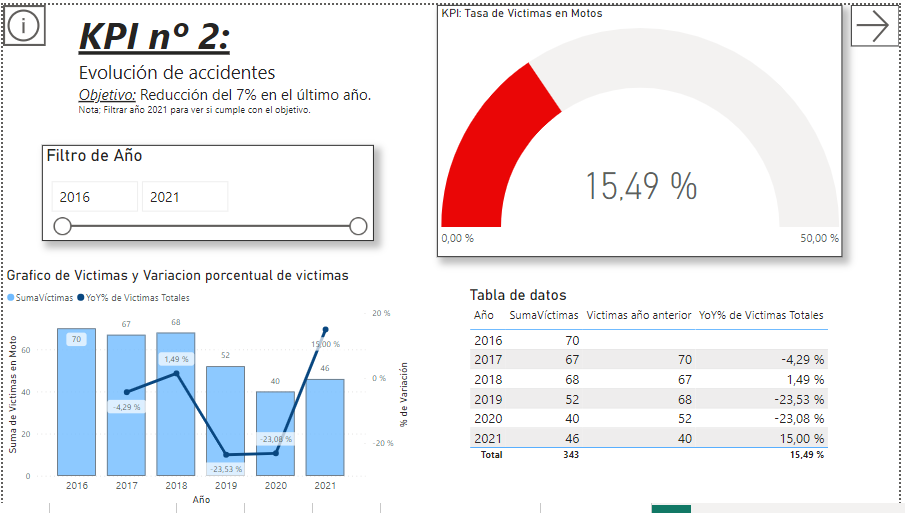

This screenshot's page, from the dashboard's own definition file:
{"tool":"powerbi","page":{"name":"KPI 2","canvas":[1280,720],"ordinal":3},"visuals":[{"type":"lineClusteredColumnComboChart","title":"Grafico de Victimas y Variacion  porcentual de victimas","fields":{"Category":["Accidentes y victimas.PARTICIPANTES","Calendario.Fechas.Variación.Jerarquía de fechas.Año"],"Y":["Accidentes y victimas.SumaVíctimas"],"Y2":["Accidentes y victimas.YoY% de Victimas Totales"]},"box":[0,374.4,584.6,345.6],"z":0},{"type":"slicer","title":"Filtro de Año","fields":{"Values":["Calendario.Fechas.Variación.Jerarquía de fechas.Año"]},"box":[55.7,200,474.3,137.1],"z":1000},{"type":"gauge","title":"KPI: Tasa de Victimas en Motos","fields":{"Y":["Accidentes y victimas.YoY% de Victimas Totales"],"TargetValue":["Accidentes y victimas.Objetivo KPI 2"]},"box":[620,0,578.6,360],"z":2000},{"type":"tableEx","title":"Tabla de datos","fields":{"Values":["Calendario.Fechas.Variación.Jerarquía de fechas.Año","Accidentes y victimas.SumaVíctimas","Accidentes y victimas.Victimas año anterior","Accidentes y victimas.YoY% de Victimas Totales"]},"box":[661.4,401.4,537.1,291.4],"z":3000},{"type":"textbox","box":[102.9,0,442.9,167.1],"z":4000},{"type":"actionButton","box":[1211.4,0,68.6,58.6],"z":5000},{"type":"actionButton","box":[0,0,61.4,58.6],"z":6000}]}

Visuals, with their boxes in screenshot pixels (x1, y1, x2, y2), scaled from the page's 1280x720 canvas onto the 905x513 screenshot:
"Grafico de Victimas y Variacion  porcentual de victimas" lineClusteredColumnComboChart: crop(0, 267, 413, 512)
"Filtro de Año" slicer: crop(39, 142, 375, 240)
"KPI: Tasa de Victimas en Motos" gauge: crop(438, 0, 847, 256)
"Tabla de datos" tableEx: crop(468, 286, 847, 494)
textbox: crop(73, 0, 386, 119)
actionButton: crop(856, 0, 904, 42)
actionButton: crop(0, 0, 43, 42)
